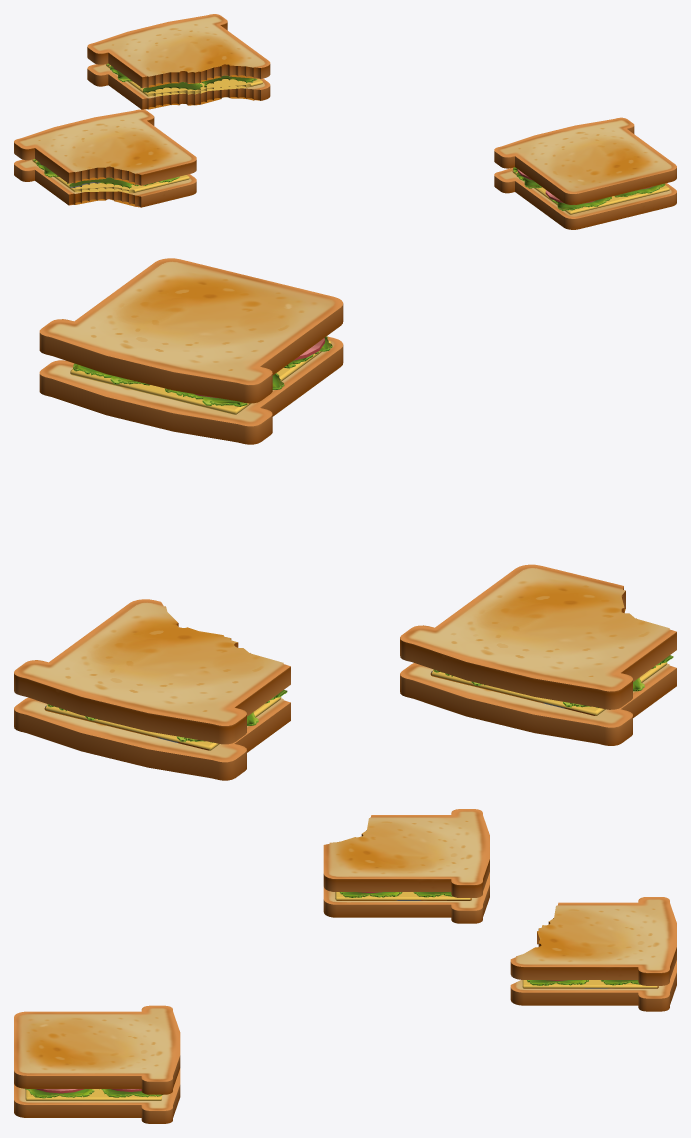
File: SANDWICH.fbx
3 renders of one model, top to bottom at view 1: azimuth 30°, elevation 25°; view 2: azimuth 150°, elevation 25°; view 3: azimuth 270°, elevation 25°, orthographic. The views are drawn at different scales.
Visible parts, largest first — view 1: Cube.001, Cube.003, Cube.002; view 2: Cube.001, Cube.003, Cube.002; view 3: Cube.001, Cube.003, Cube.002.
Part boxes in pixels (<box>): Cube.001: <box>494,117,676,229</box>; Cube.003: <box>14,109,196,207</box>; Cube.002: <box>87,14,270,109</box>; Cube.001: <box>39,258,343,444</box>; Cube.003: <box>400,564,676,745</box>; Cube.002: <box>14,599,290,780</box>; Cube.001: <box>14,1005,180,1123</box>; Cube.003: <box>323,809,489,923</box>; Cube.002: <box>510,897,676,1011</box>.
Size of the model in its own units: 861 by 61.29 by 873.
2 materials, 1 textured.
